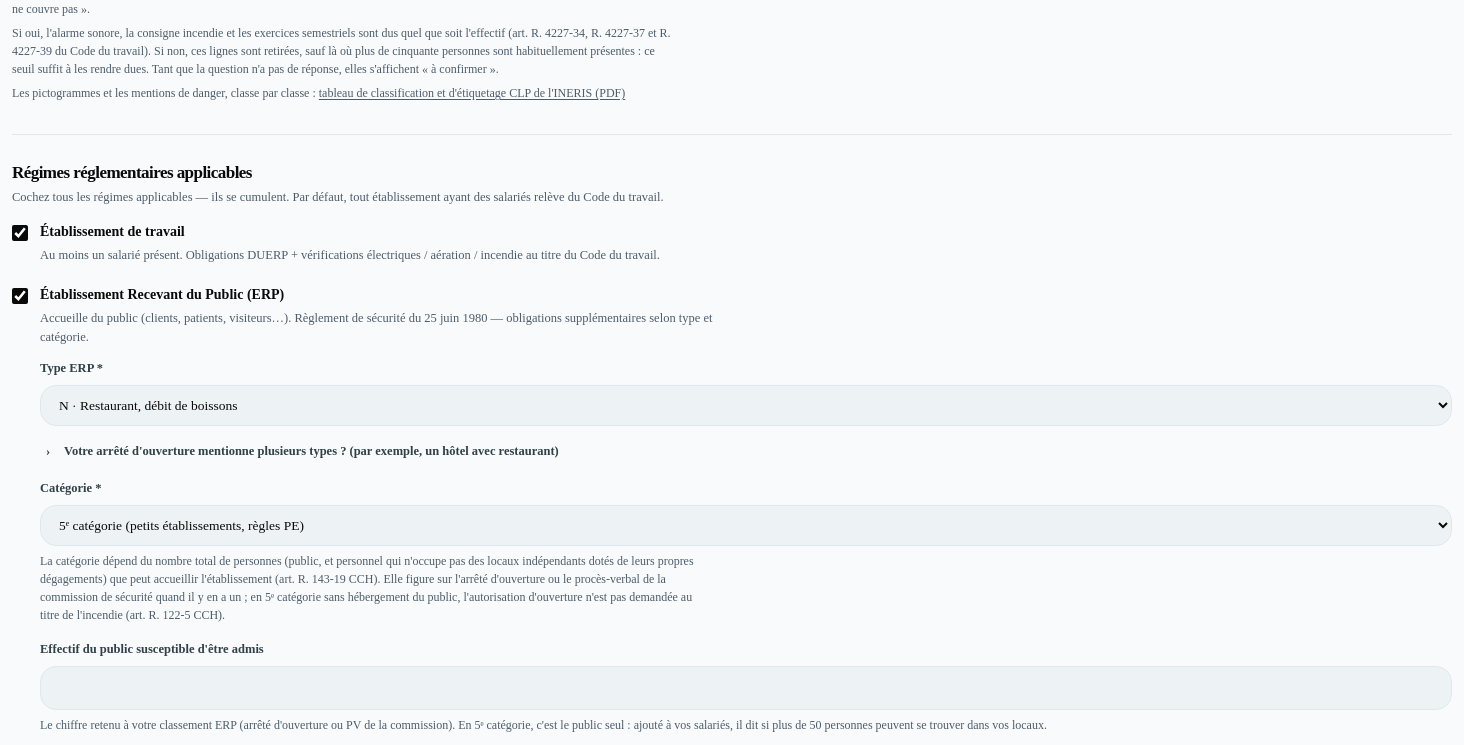
Test: fiche : la question de l'accueil d'enfants › un restaurant qui passe en R : la question apparaît, réponse exigée
(page scrolled)
Select "R · Éveil, enseignement, formation, centre de vacances ou de loisirs" in the dropdown named "typeErp" at (746, 406), box [40, 385, 1452, 426]
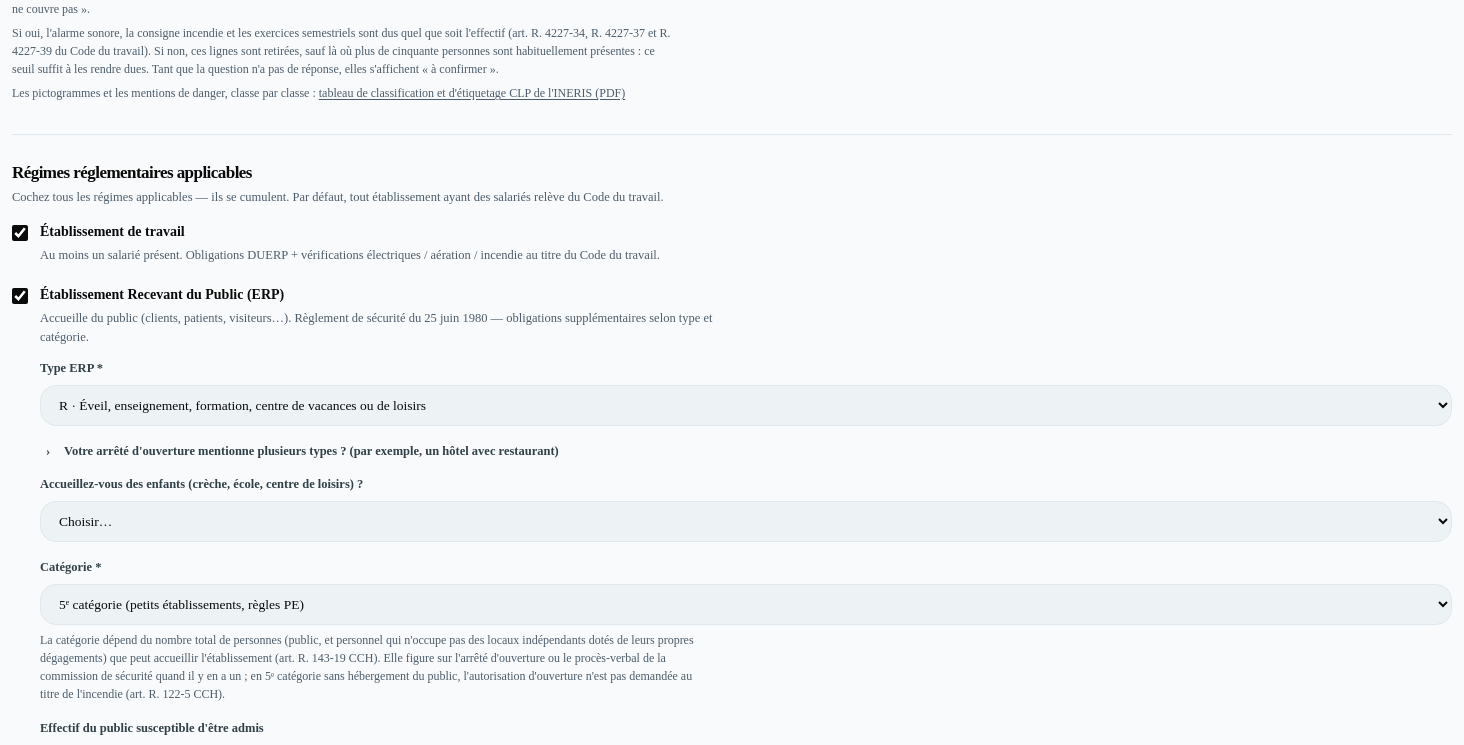
Result: the dropdown named "accueilEnfants" is shown at [40, 501, 1452, 542]
